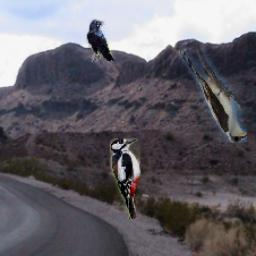Crow: (87, 19, 116, 62)
Cuckoo: (179, 47, 247, 144)
Woodpecker: (111, 138, 142, 219)
